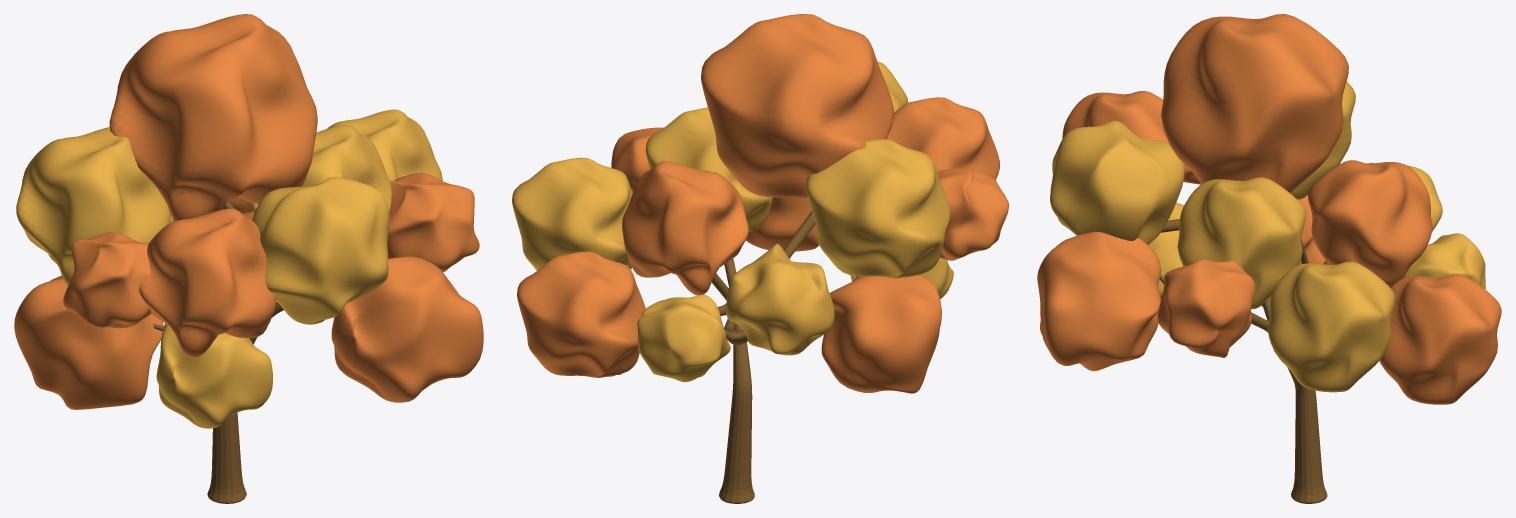
The model's file is Autumn tree.fbx.
3 renders of one model, left to right at view 1: azimuth 30°, elevation 25°; view 2: azimuth 150°, elevation 25°; view 3: azimuth 270°, elevation 25°, orthographic. The views are drawn at different scales.
Parts seen in each view (by area): view 1: Roundcube.013, Roundcube.001, Roundcube.003, Roundcube.004, Roundcube.014, Roundcube.007, Roundcube.005, Roundcube.008, Roundcube, Roundcube.012, Roundcube.011, Plane; view 2: Roundcube.013, Roundcube.014, Roundcube.009, Roundcube.010, Roundcube.007, Roundcube.011, Roundcube.006, Roundcube.002, Roundcube.004, Plane, Roundcube, Roundcube.012 (+4 smaller); view 3: Roundcube.013, Roundcube.003, Roundcube.011, Roundcube.001, Roundcube.009, Roundcube.010, Roundcube.012, Roundcube.008, Plane, Roundcube.004, Roundcube.002, Roundcube.014 (+3 smaller).
Boxes of the visible parts, left/top/right/bottom form: Roundcube.013: left=109, top=14, right=317, bottom=221; Roundcube.001: left=252, top=177, right=389, bottom=324; Roundcube.003: left=331, top=256, right=483, bottom=402; Roundcube.004: left=139, top=208, right=276, bottom=357; Roundcube.014: left=16, top=127, right=170, bottom=286; Roundcube.007: left=14, top=275, right=163, bottom=409; Roundcube.005: left=156, top=323, right=272, bottom=428; Roundcube.008: left=387, top=172, right=479, bottom=272; Roundcube: left=63, top=232, right=150, bottom=328; Roundcube.012: left=251, top=125, right=391, bottom=212; Roundcube.011: left=327, top=109, right=442, bottom=180; Plane: left=153, top=201, right=283, bottom=503; Roundcube.013: left=701, top=14, right=893, bottom=198; Roundcube.014: left=806, top=139, right=950, bottom=278; Roundcube.009: left=517, top=251, right=645, bottom=377; Roundcube.010: left=622, top=161, right=748, bottom=295; Roundcube.007: left=821, top=274, right=941, bottom=393; Roundcube.011: left=512, top=157, right=632, bottom=270; Roundcube.006: left=726, top=243, right=834, bottom=355; Roundcube.002: left=637, top=294, right=730, bottom=382; Roundcube.004: left=887, top=97, right=999, bottom=180; Plane: left=712, top=211, right=852, bottom=503; Roundcube: left=937, top=168, right=1008, bottom=260; Roundcube.012: left=645, top=107, right=772, bottom=231; Roundcube.013: left=1161, top=14, right=1348, bottom=193; Roundcube.003: left=1037, top=231, right=1161, bottom=371; Roundcube.011: left=1267, top=261, right=1395, bottom=392; Roundcube.001: left=1050, top=120, right=1184, bottom=244; Roundcube.009: left=1379, top=274, right=1501, bottom=404; Roundcube.010: left=1308, top=160, right=1432, bottom=285; Roundcube.012: left=1177, top=177, right=1306, bottom=309; Roundcube.008: left=1157, top=259, right=1255, bottom=357; Plane: left=1159, top=219, right=1393, bottom=503; Roundcube.004: left=1062, top=91, right=1169, bottom=143; Roundcube.002: left=1403, top=233, right=1485, bottom=288; Roundcube.014: left=1290, top=81, right=1355, bottom=199.
Bounding box in the file's own units: 1285 × 1383 × 1264.
